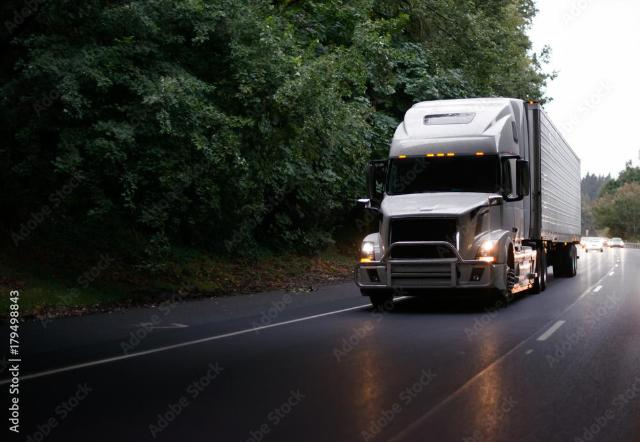truck: (342, 85, 582, 304)
